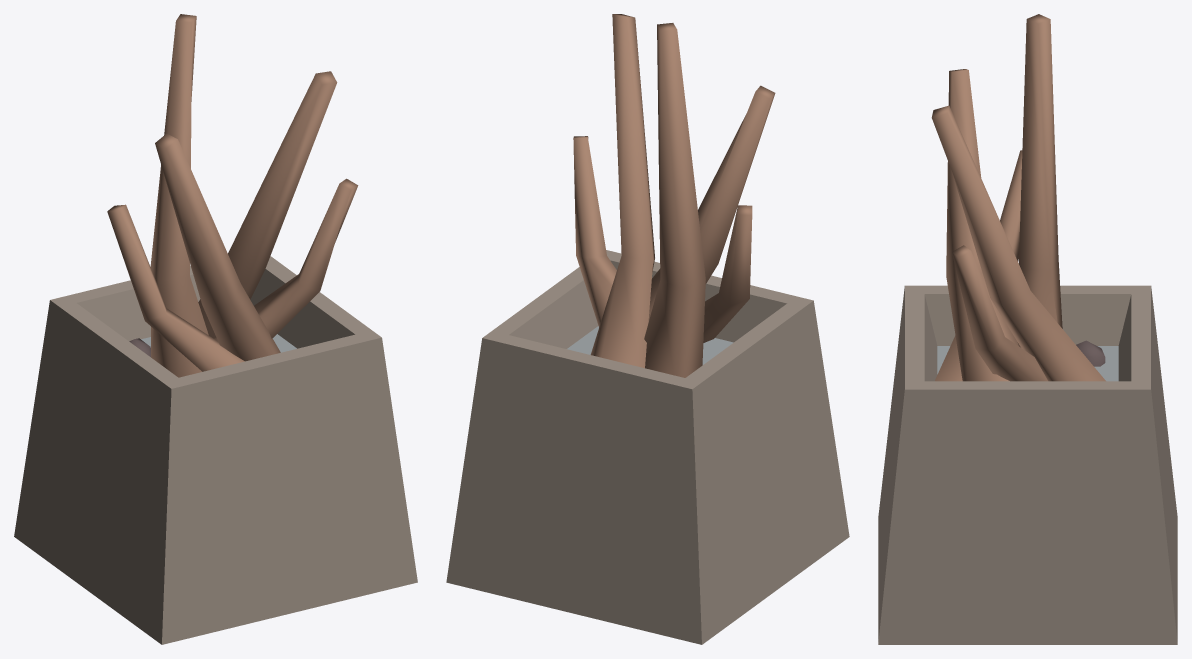
File: veg1.fbx
3 renders of one model, left to right at view 1: azimuth 30°, elevation 25°; view 2: azimuth 150°, elevation 25°; view 3: azimuth 270°, elevation 25°, orthographic.
Visible parts, largest first — view 1: Cube.003; view 2: Cube.003; view 3: Cube.003.
Boxes of the visible parts, x1,y1,x2,y2 form: Cube.003: [14, 14, 417, 644]; Cube.003: [446, 14, 849, 644]; Cube.003: [878, 14, 1177, 644].
Bounding box in the file's own units: 10.32 × 20.92 × 10.32.
